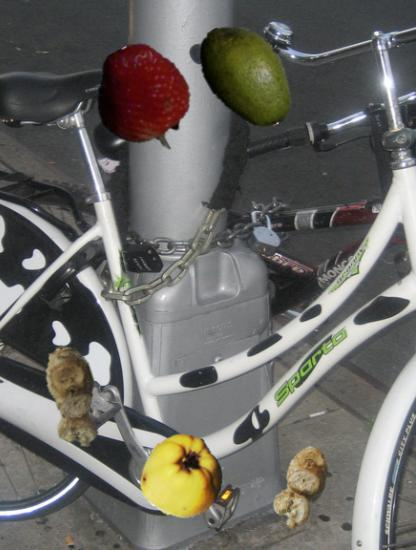Avocado: (189, 19, 304, 134)
Ginger: (19, 343, 127, 451), (257, 444, 344, 531)
Quince: (142, 436, 225, 519)
Strawberry: (87, 44, 200, 157)
